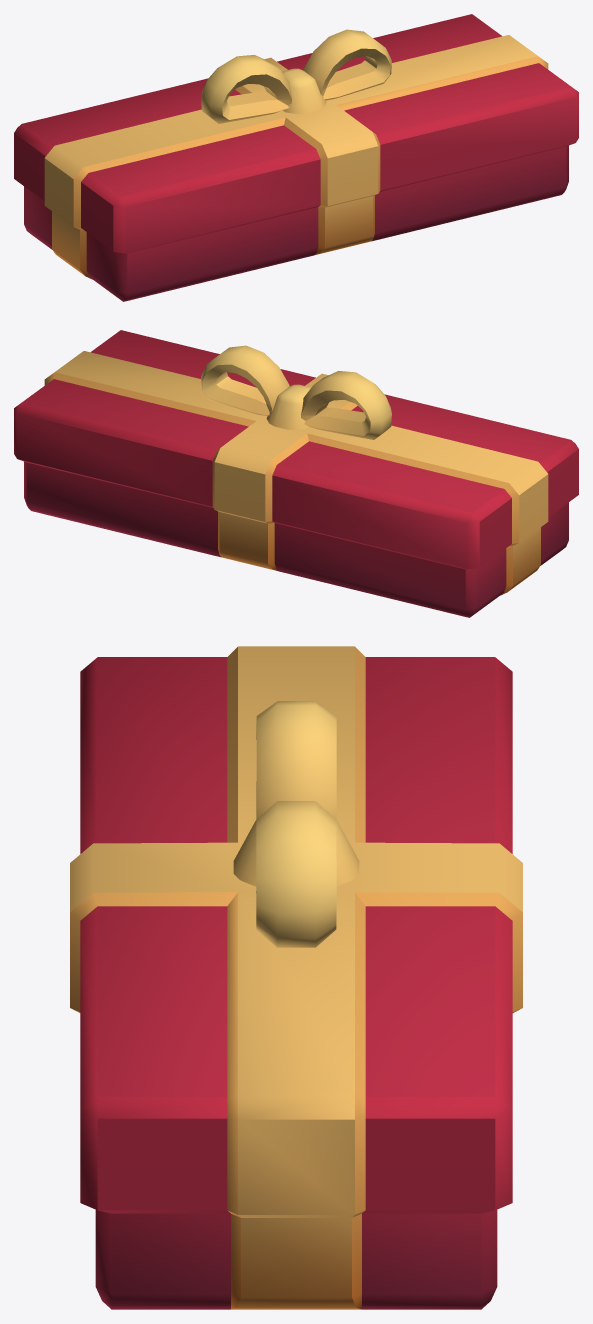
Rendered from Present_E.gltf.
3 renders of one model, top to bottom at view 1: azimuth 30°, elevation 25°; view 2: azimuth 150°, elevation 25°; view 3: azimuth 270°, elevation 25°, orthographic. The views are drawn at different scales.
Visible parts, largest first — view 1: Present_E; view 2: Present_E; view 3: Present_E.
Boxes of the visible parts, <box> form: Present_E: <box>14,14,578,301</box>; Present_E: <box>14,330,578,617</box>; Present_E: <box>70,646,522,1309</box>.
Bounding box in the file's own units: 1.36 × 0.4617 × 0.5638.
Materials: 1 (1 with a texture image).
